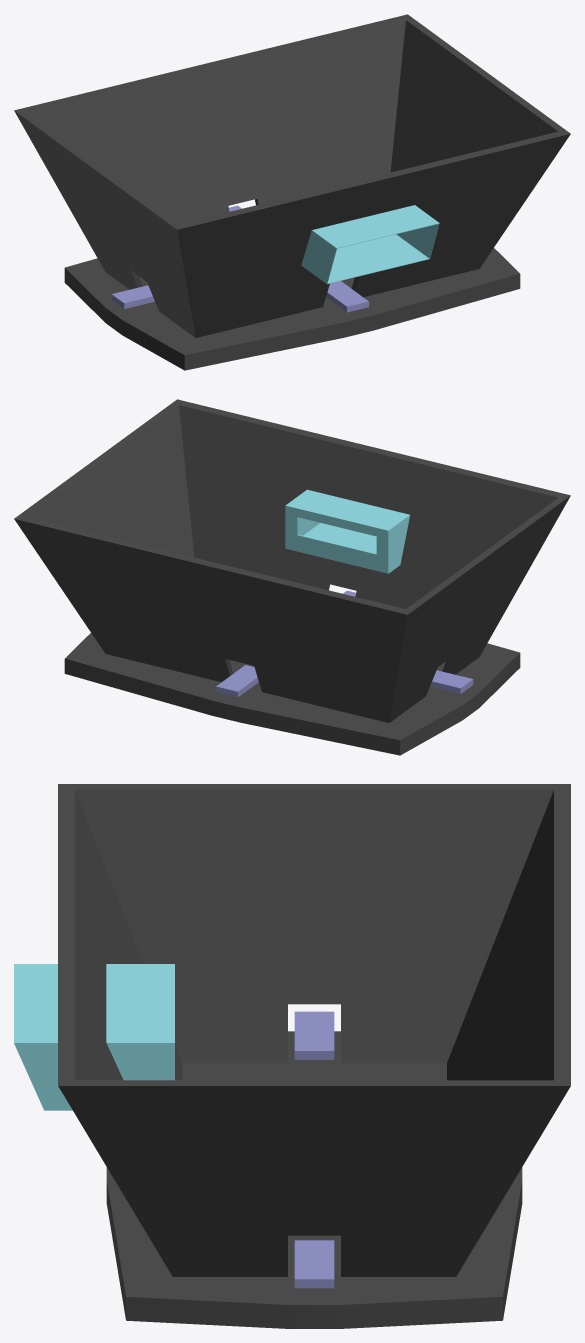
File: tset2.FBX
3 renders of one model, top to bottom at view 1: azimuth 30°, elevation 25°; view 2: azimuth 150°, elevation 25°; view 3: azimuth 270°, elevation 25°, orthographic. The views are drawn at different scales.
Visible parts, largest first — view 1: Box001, Box002 (×2); view 2: Box001, Box002 (×2); view 3: Box001, Box002 (×2).
Boxes of the visible parts, x1,y1,x2,y2 form: Box001: [14, 14, 570, 370]; Box002 (×2): [111, 205, 439, 312]; Box001: [14, 399, 570, 755]; Box002 (×2): [216, 489, 473, 697]; Box001: [58, 784, 570, 1328]; Box002 (×2): [14, 964, 334, 1288].
Bounding box in the file's own units: 2126 × 844 × 1657.
